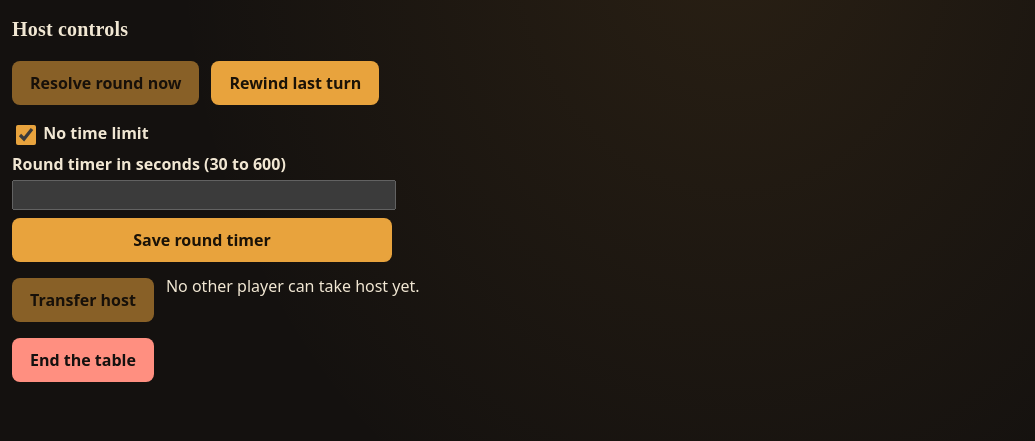
Test case: HostControls › rejects a non-numeric timer without sending
Click the checkbox labelled "No time limit": (26, 135) [16,125,36,145]
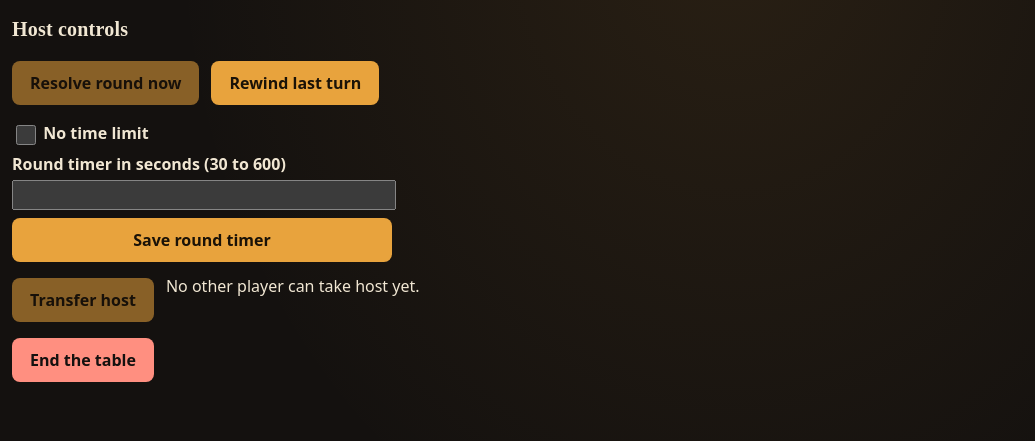
Click the button "Save round timer": (202, 240) [12,218,392,262]
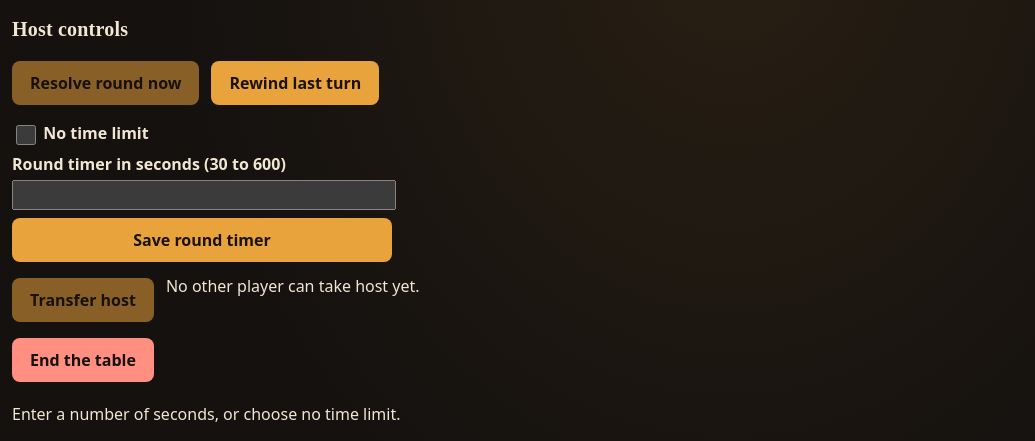
Check: the message shows "Enter a number", box [12,403,400,425]
